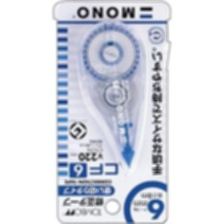book: (50, 0, 171, 223)
correction_fluid: (75, 18, 149, 173)
